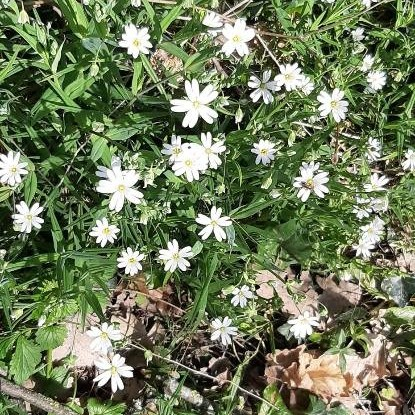obstacle: (71, 48, 389, 381)
